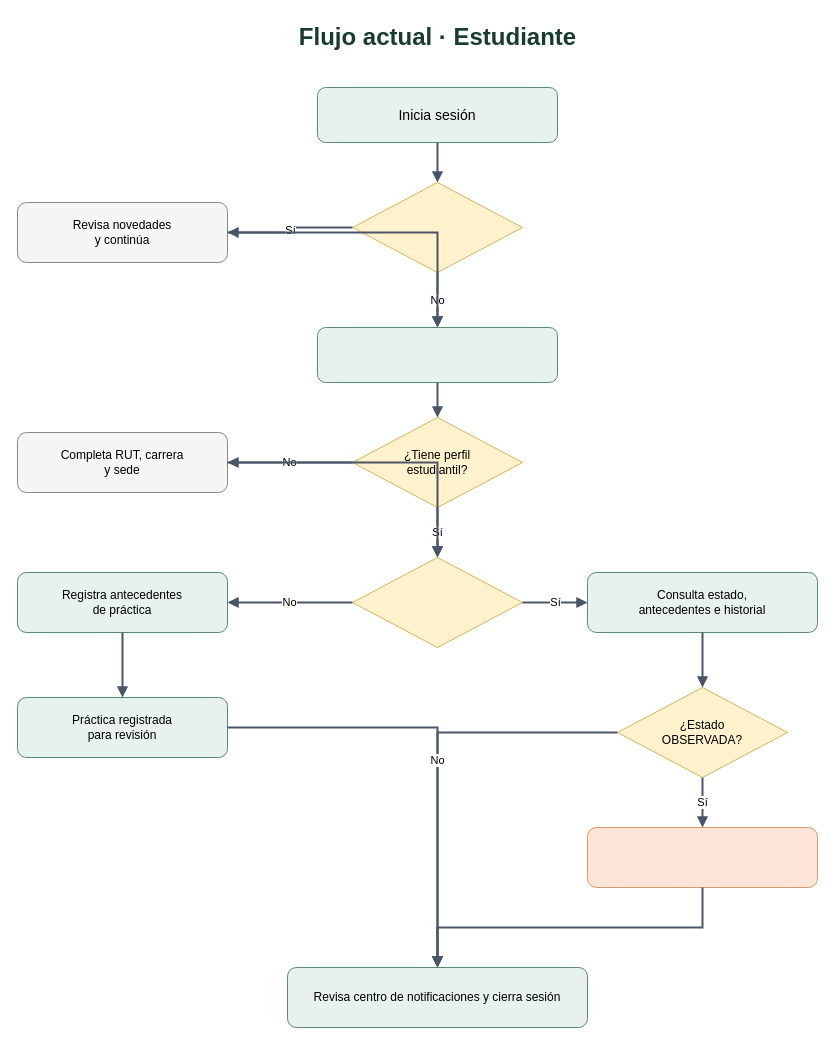
Image size: 835x1045. Some labels were removed from this diagram. Here are the shapes that lost their labels. From the top down, the centre of each, then its label:
At [437,227]: "¿Hay novedades de versión?".
At [437,354]: "Panel Mi práctica".
At [437,602]: "¿Tiene práctica registrada?".
At [702,857]: "Responde observación; vuelve a revisión".
